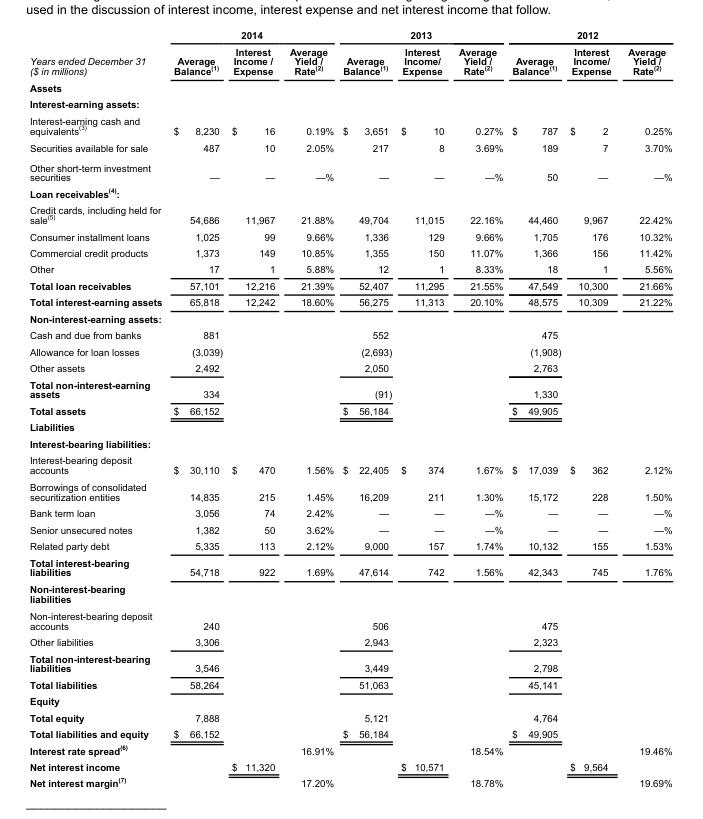table: (28, 28, 671, 788)
table column: (28, 28, 167, 788), (167, 28, 226, 788), (337, 28, 395, 788), (506, 28, 564, 788), (281, 28, 337, 788), (450, 28, 506, 788), (226, 28, 281, 788), (395, 28, 450, 788), (564, 28, 619, 788), (619, 28, 671, 788)
table column header: (28, 28, 671, 79)
table projected row header: (28, 580, 671, 607), (28, 95, 671, 112), (28, 184, 671, 201), (28, 418, 671, 435), (28, 692, 671, 709), (28, 79, 671, 95), (28, 310, 671, 326), (28, 435, 671, 451)
table row: (28, 42, 671, 79), (28, 112, 671, 139), (28, 157, 671, 184), (28, 201, 671, 228), (28, 375, 671, 402), (28, 451, 671, 478), (28, 553, 671, 580), (28, 580, 671, 607), (28, 649, 671, 676), (28, 478, 671, 504), (28, 607, 671, 633), (28, 139, 671, 157), (28, 95, 671, 112), (28, 184, 671, 201), (28, 260, 671, 277), (28, 293, 671, 310), (28, 342, 671, 359), (28, 418, 671, 435), (28, 520, 671, 537), (28, 692, 671, 709), (28, 741, 671, 758), (28, 79, 671, 95), (28, 228, 671, 244), (28, 244, 671, 260), (28, 277, 671, 293), (28, 310, 671, 326), (28, 326, 671, 342), (28, 359, 671, 375), (28, 402, 671, 418), (28, 435, 671, 451), (28, 504, 671, 520), (28, 537, 671, 553), (28, 633, 671, 649), (28, 676, 671, 692), (28, 709, 671, 725), (28, 725, 671, 741), (28, 758, 671, 773), (28, 773, 671, 788), (28, 28, 671, 42)
table spanning cell: (28, 28, 167, 79), (167, 28, 337, 42), (337, 28, 506, 42), (506, 28, 671, 42)
